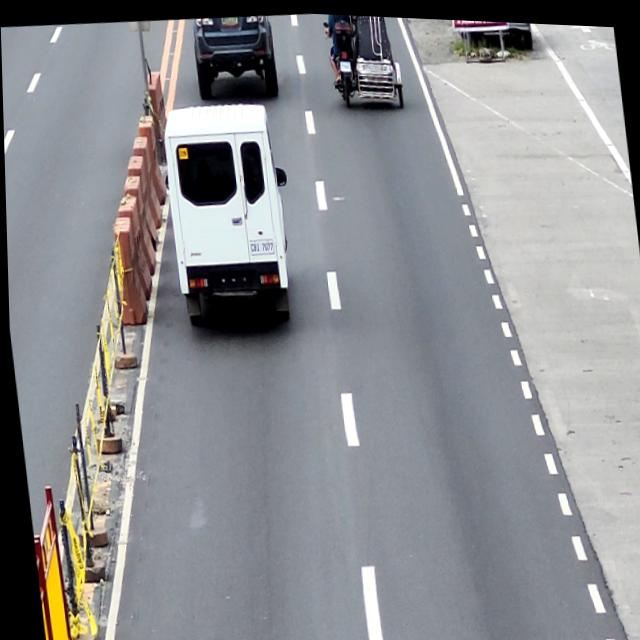Car: (157, 94, 301, 327), (190, 10, 278, 98)
License-Plate: (247, 235, 273, 253), (220, 14, 237, 24), (338, 57, 350, 70)
Tricycle: (321, 11, 404, 109)
